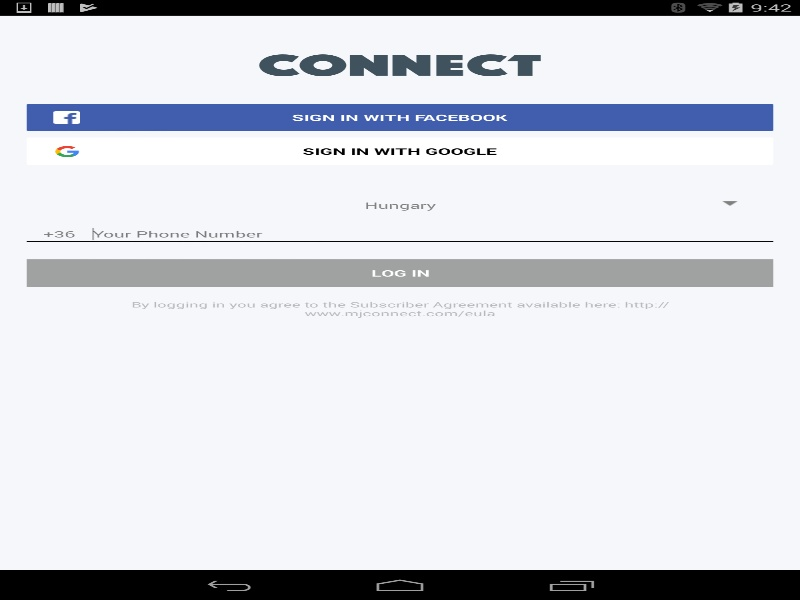Input: (92, 228, 773, 242), (26, 228, 92, 242)
